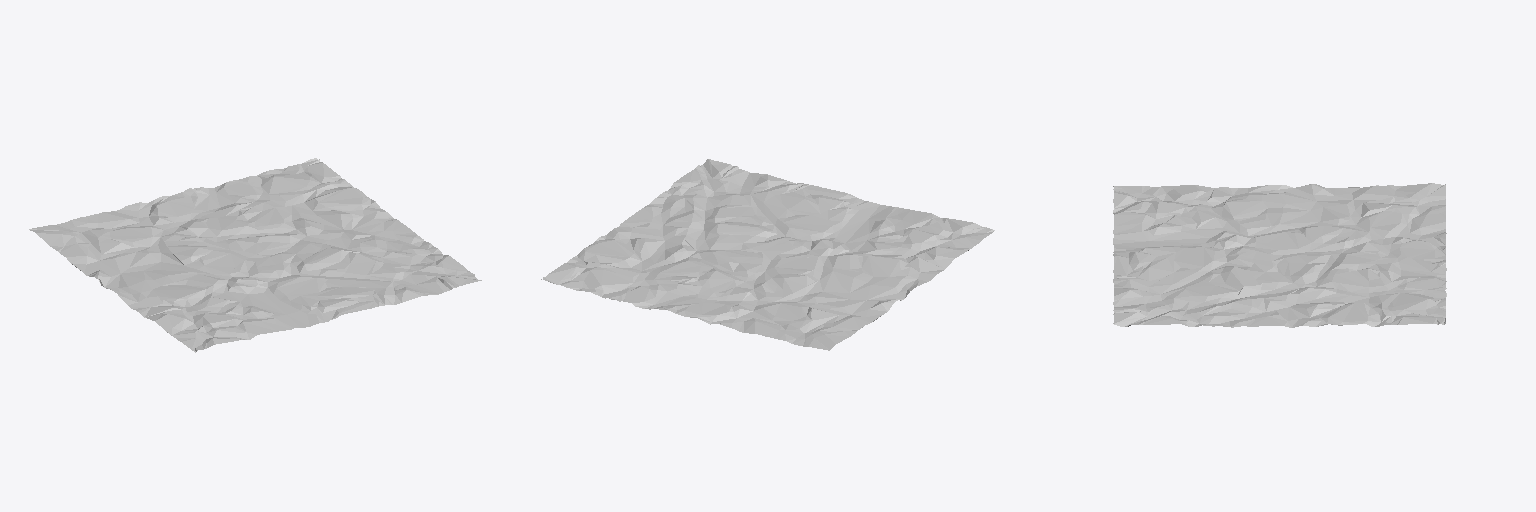
File: landscape01.obj
The picture shows the model from 3 angles: view 1: azimuth 30°, elevation 25°; view 2: azimuth 150°, elevation 25°; view 3: azimuth 270°, elevation 25°; orthographic projection.
Parts seen in each view (by area): view 1: Landscape.002; view 2: Landscape.002; view 3: Landscape.002.
Part boxes in pixels (left/top/right/bottom): Landscape.002: left=29, top=158, right=481, bottom=352; Landscape.002: left=541, top=159, right=994, bottom=350; Landscape.002: left=1113, top=183, right=1446, bottom=327.
Bounding box in the file's own units: 1.98 × 0.0357 × 1.98.